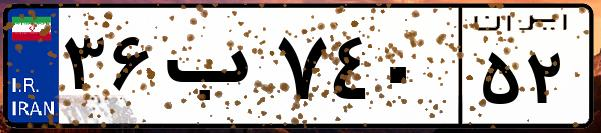0: (385, 28, 445, 110)
2: (525, 38, 570, 115)
3: (57, 26, 110, 100)
4: (330, 28, 385, 110)
5: (475, 38, 525, 113)
6: (110, 28, 158, 98)
7: (270, 28, 330, 110)
ب: (158, 20, 270, 120)
